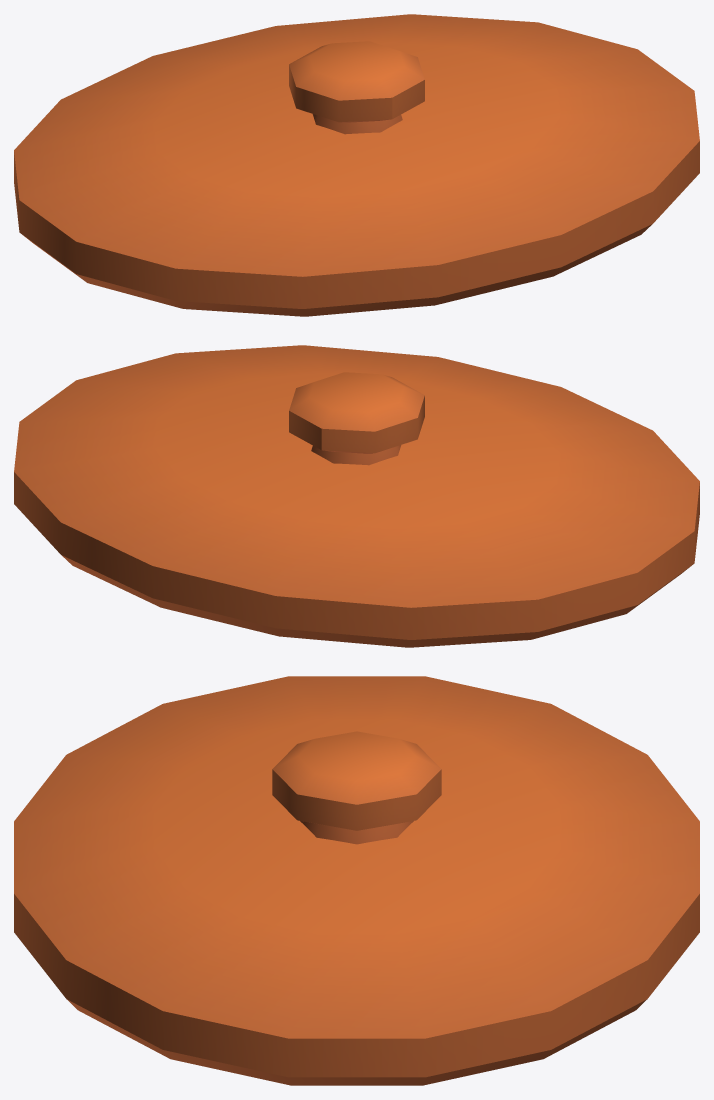
Rendered from Lid Large.glb.
The picture shows the model from 3 angles, top to bottom: view 1: azimuth 30°, elevation 25°; view 2: azimuth 150°, elevation 25°; view 3: azimuth 270°, elevation 25°; orthographic projection. The views are drawn at different scales.
Parts seen in each view (by area): view 1: lid_large; view 2: lid_large; view 3: lid_large.
Boxes of the visible parts, left/top/right/bottom form: lid_large: left=14, top=14, right=699, bottom=316; lid_large: left=14, top=345, right=699, bottom=647; lid_large: left=14, top=676, right=699, bottom=1085.
Bounding box in the file's own units: 1.5 × 0.3 × 1.2.
Materials: 1 (1 with a texture image).
